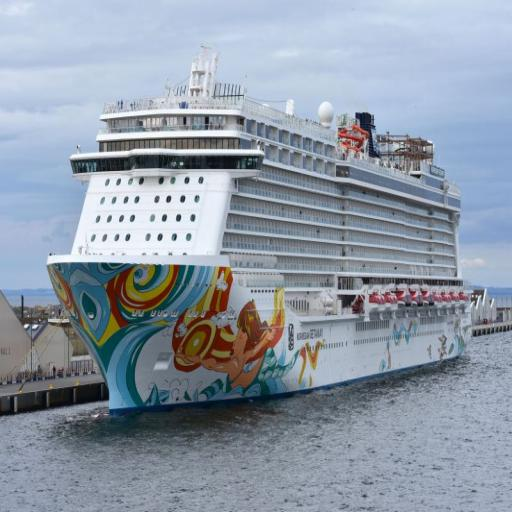cruises: (41, 29, 488, 425)
